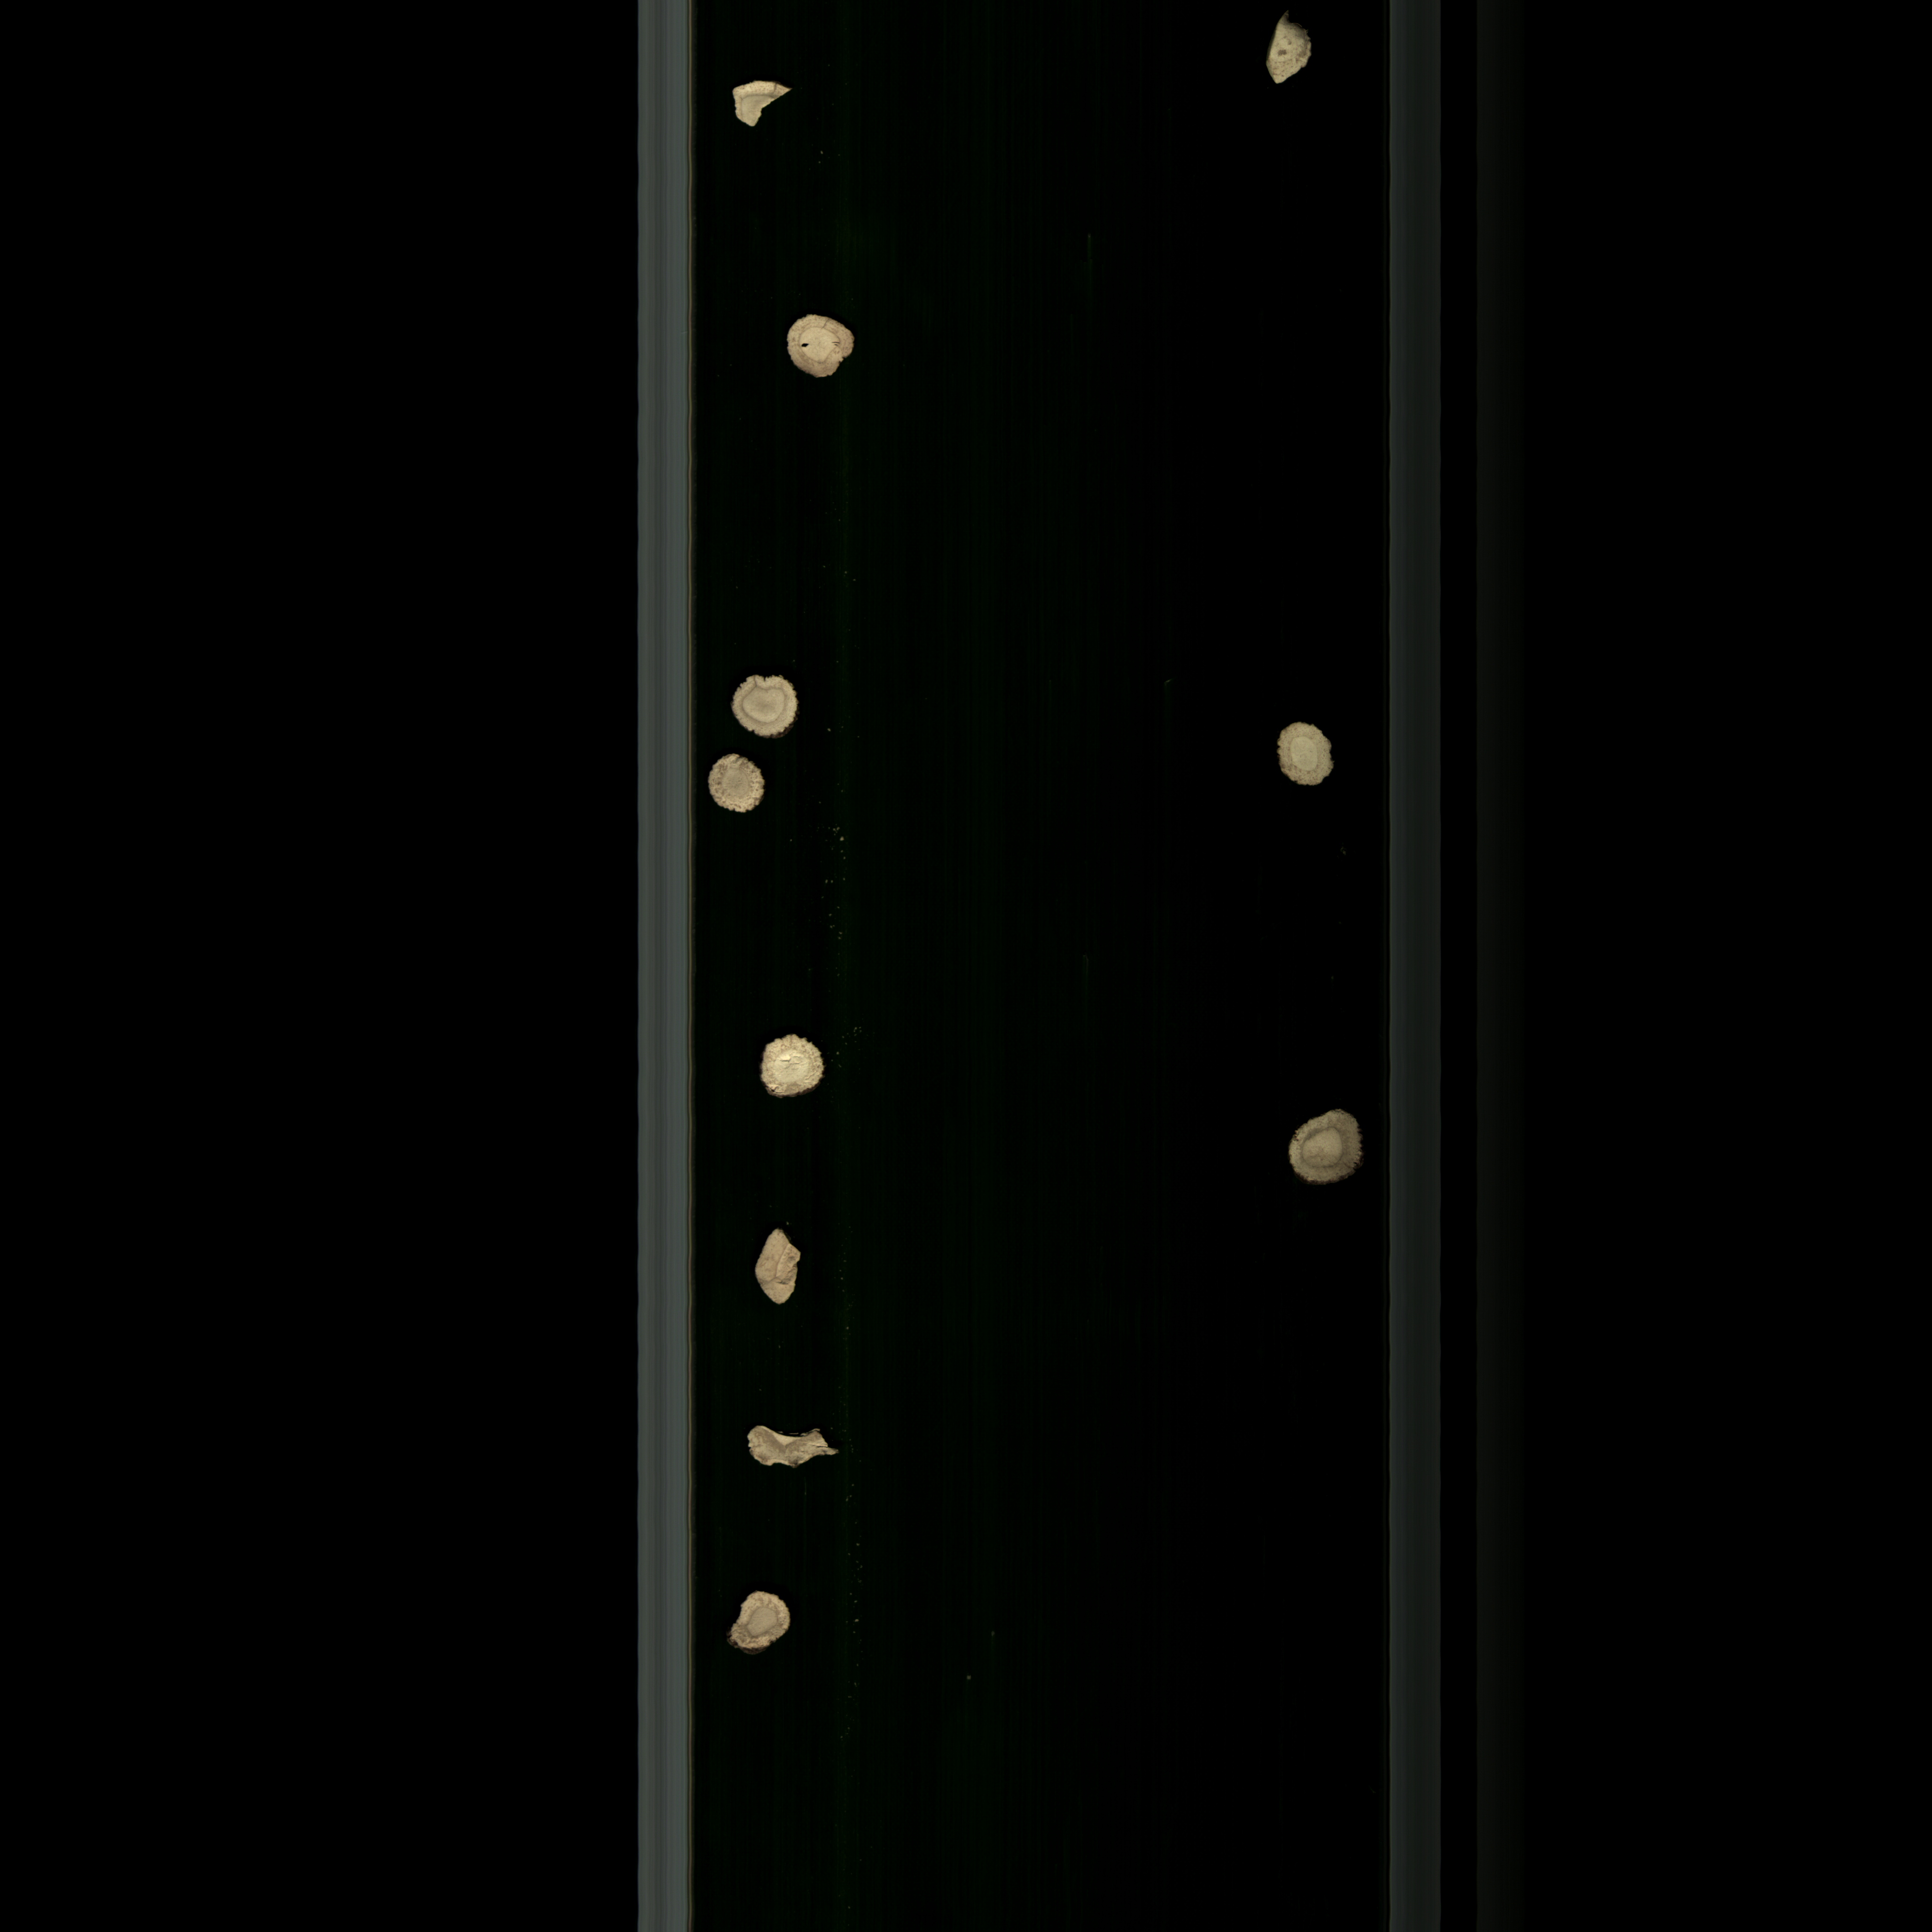debris: (736, 1414, 869, 1479), (747, 1219, 821, 1315)
distortion: (1274, 1102, 1369, 1201), (718, 667, 803, 743), (720, 1583, 803, 1658)
dreg: (720, 74, 800, 143)
hole: (782, 311, 878, 395)
moldy: (704, 750, 773, 828), (1254, 12, 1318, 94)
